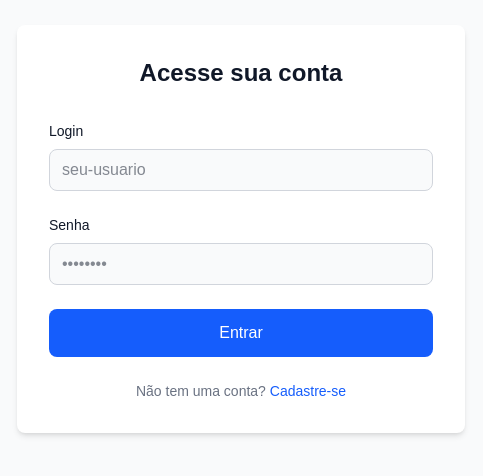
LoginPage › deve exibir uma mensagem de erro em caso de falha no login
Step 1. Type "testuser" into the field labelled "Login" → {"x": 241, "y": 170}, box [49,149,433,191]
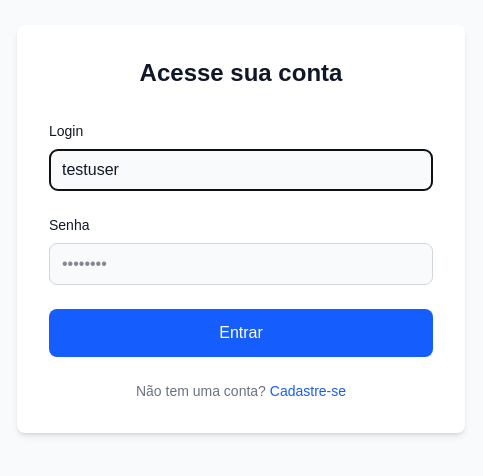
Step 2. Type "password123" into the password field labelled "Senha" → {"x": 241, "y": 264}, box [49,243,433,285]
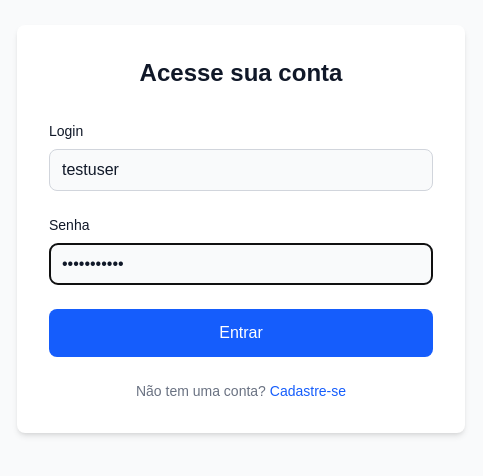
Step 3. Click the button "Entrar" → {"x": 241, "y": 333}, box [49,309,433,357]
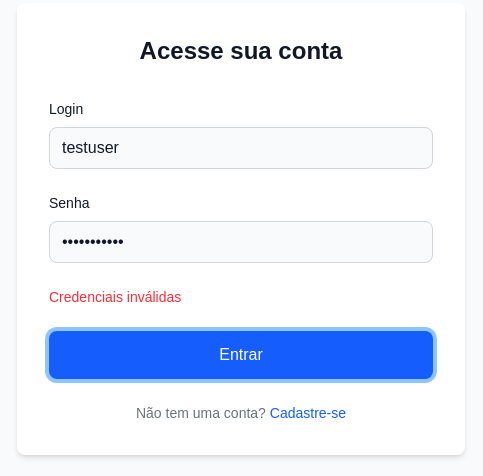
Expected: the text "Credenciais inválidas" is shown, [49,289,181,305]
